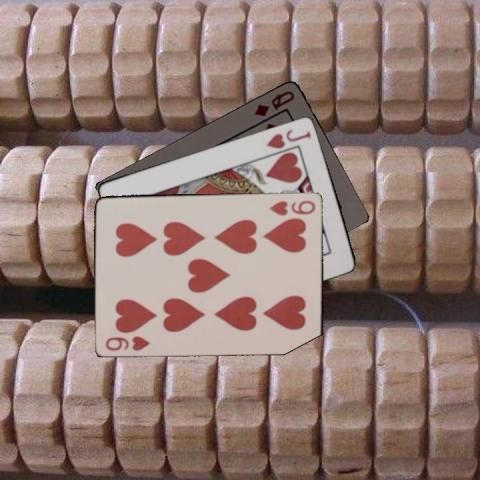9h: (268, 197, 318, 217), (103, 333, 152, 352)
Jh: (263, 126, 313, 150)
Qd: (251, 87, 297, 118)
